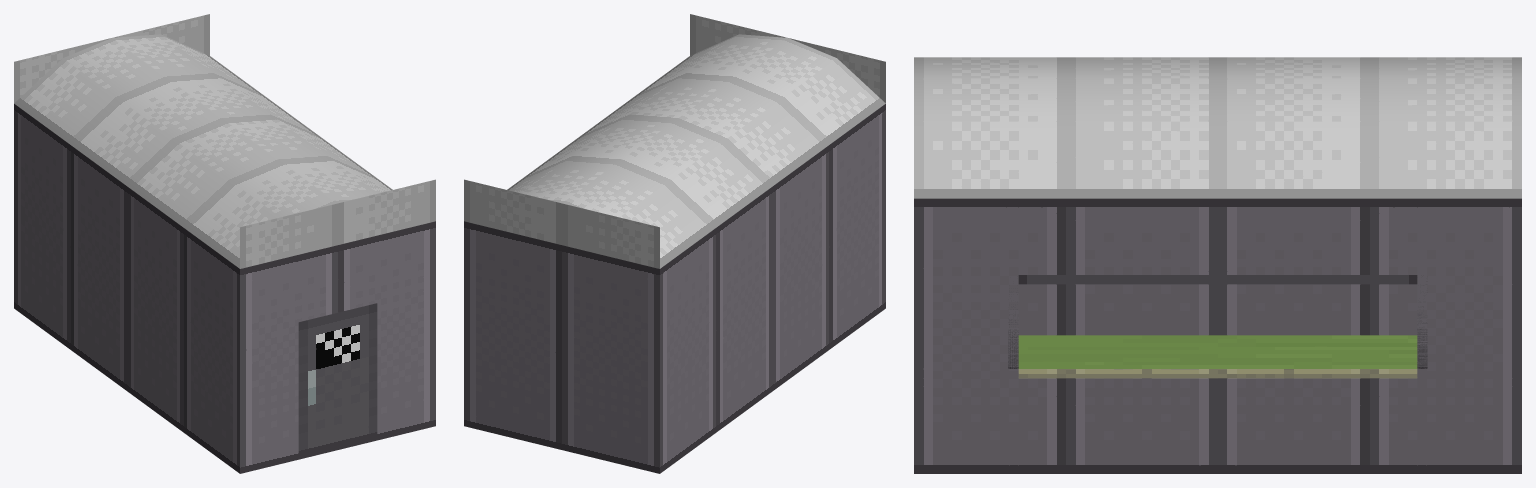
Rendered from FoodTruckInterior.fbx.
3 views of the same model, side by side, from view 1: azimuth 30°, elevation 25°; view 2: azimuth 150°, elevation 25°; view 3: azimuth 270°, elevation 25° (orthographic). The views are drawn at different scales.
Parts seen in each view (by area): view 1: FT_Ceiling, FT_Wall2, FT_Wall17; view 2: FT_Ceiling, FT_Wall2, FT_Wall; view 3: FT_Wall15, FT_Ceiling, FT_Wall2, Counter1, FT_Floor.
Part boxes in pixels (x1,y1,x2,y2): FT_Ceiling: [14, 14, 435, 268]; FT_Wall2: [14, 104, 239, 473]; FT_Wall17: [240, 221, 435, 473]; FT_Ceiling: [464, 14, 885, 268]; FT_Wall2: [660, 104, 885, 473]; FT_Wall: [464, 221, 659, 473]; FT_Wall15: [914, 198, 1521, 473]; FT_Ceiling: [914, 57, 1521, 198]; FT_Wall2: [1018, 284, 1417, 335]; Counter1: [1018, 335, 1417, 368]; FT_Floor: [1018, 369, 1417, 378].
Bounding box in the file's own units: 400 × 482 × 800.
Materials: 1 (1 with a texture image).
